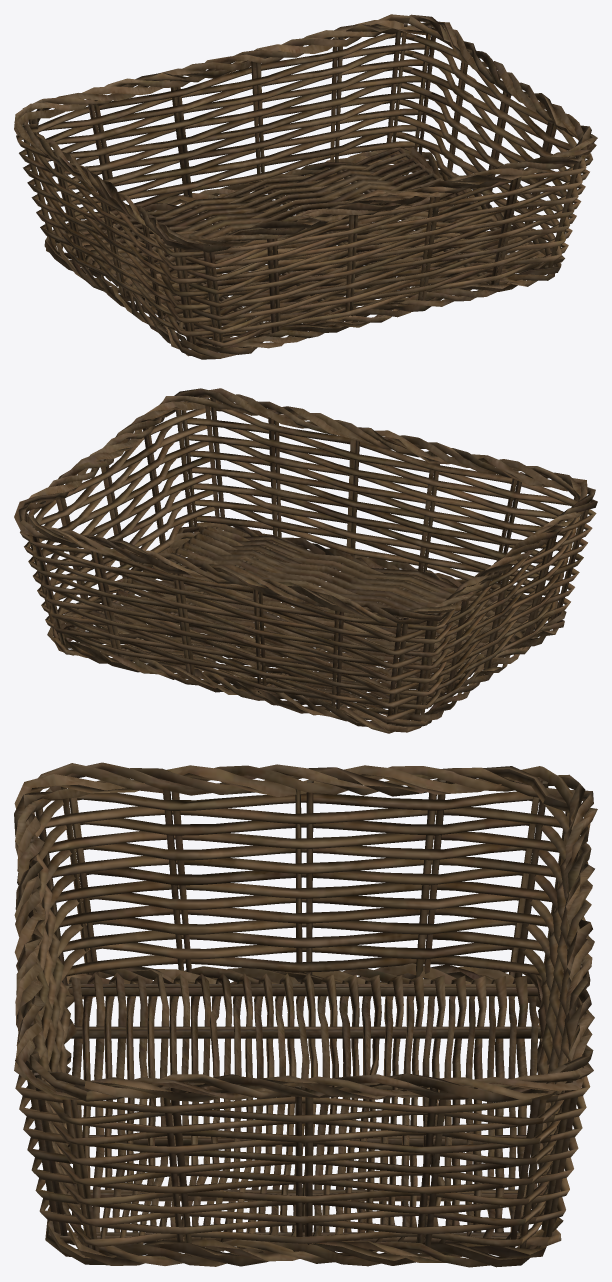
File: c_basket.glb
3 renders of one model, top to bottom at view 1: azimuth 30°, elevation 25°; view 2: azimuth 150°, elevation 25°; view 3: azimuth 270°, elevation 25°, orthographic. The views are drawn at different scales.
Visible parts, largest first — view 1: c_basket; view 2: c_basket; view 3: c_basket.
Boxes of the visible parts, x1,y1,x2,y2 form: c_basket: (14,14,597,359); c_basket: (14,388,597,733); c_basket: (14,762,597,1267).
Size of the model in its own units: 0.3831 by 0.1176 by 0.2932.
1 material, 1 textured.
